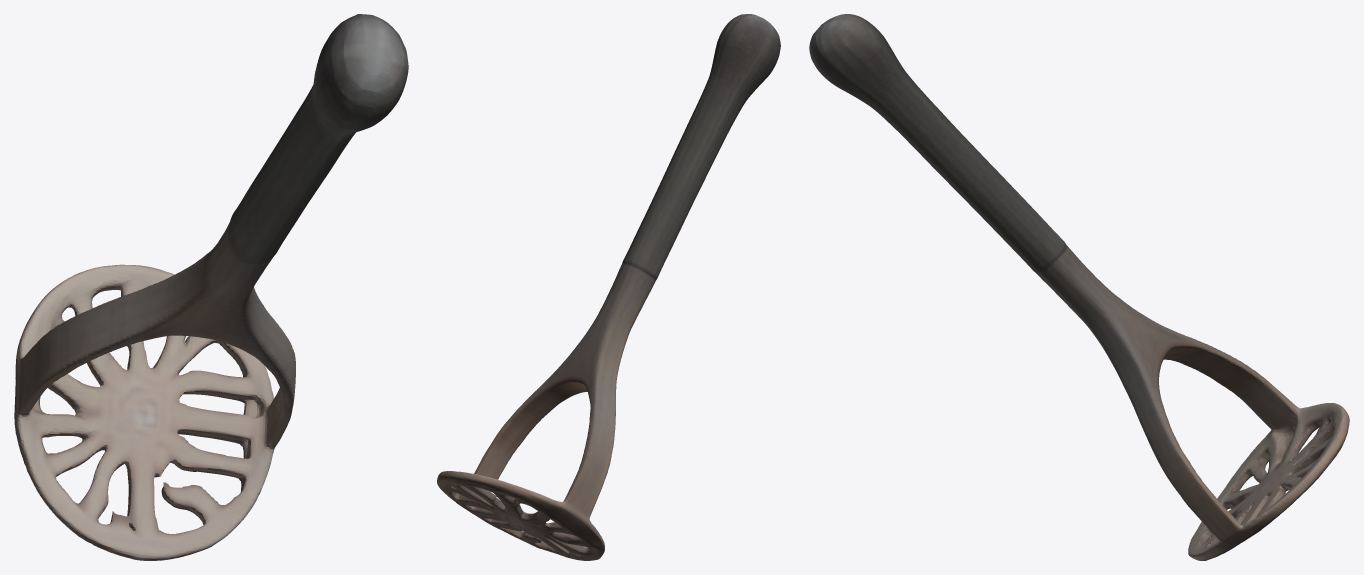
Rendered from frame_0025_source_000025_object.glb.
3 renders of one model, left to right at view 1: azimuth 30°, elevation 25°; view 2: azimuth 150°, elevation 25°; view 3: azimuth 270°, elevation 25°, orthographic. The views are drawn at different scales.
Parts seen in each view (by area): view 1: world; view 2: world; view 3: world.
Boxes of the visible parts, x1,y1,x2,y2 form: world: (14,14,408,560); world: (437,14,780,560); world: (809,14,1349,560).
Bounding box in the file's own units: 0.0761 × 0.2154 × 0.2057.
